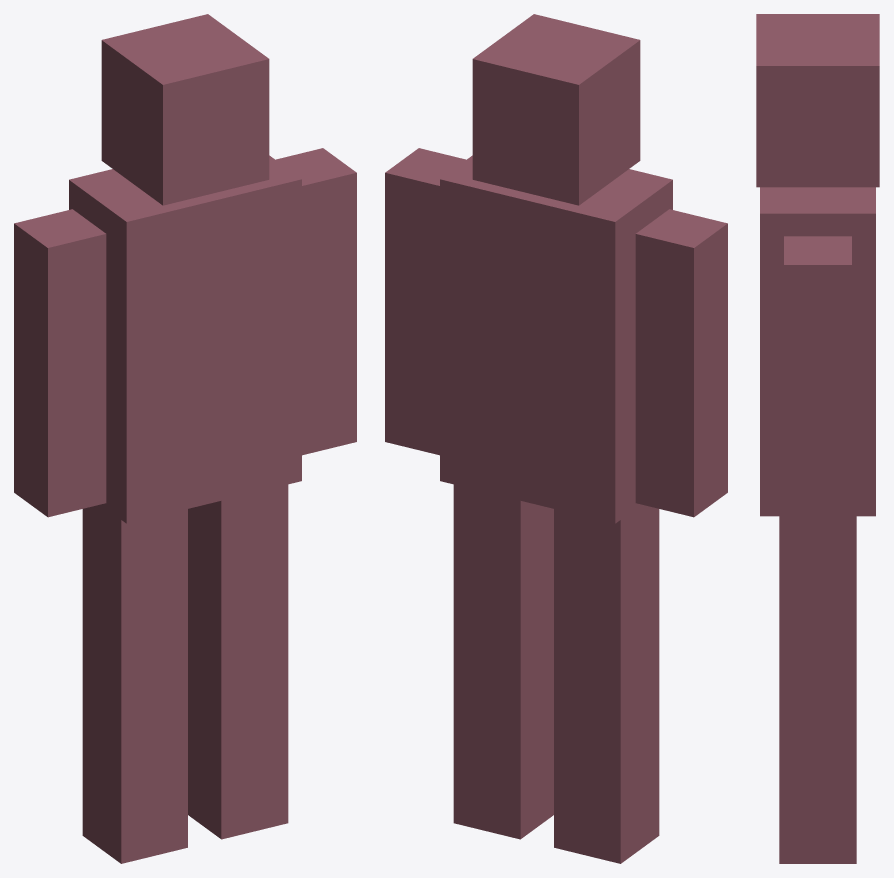
The model's file is vampire_nightblade.glb.
3 renders of one model, left to right at view 1: azimuth 30°, elevation 25°; view 2: azimuth 150°, elevation 25°; view 3: azimuth 270°, elevation 25°, orthographic.
Parts seen in each view (by area): view 1: vampire_nightblade; view 2: vampire_nightblade; view 3: vampire_nightblade.
Boxes of the visible parts, x1,y1,x2,y2 form: vampire_nightblade: [14, 14, 356, 863]; vampire_nightblade: [385, 14, 727, 863]; vampire_nightblade: [756, 14, 879, 863].
Bounding box in the file's own units: 0.7104 × 1.71 × 0.2448.
